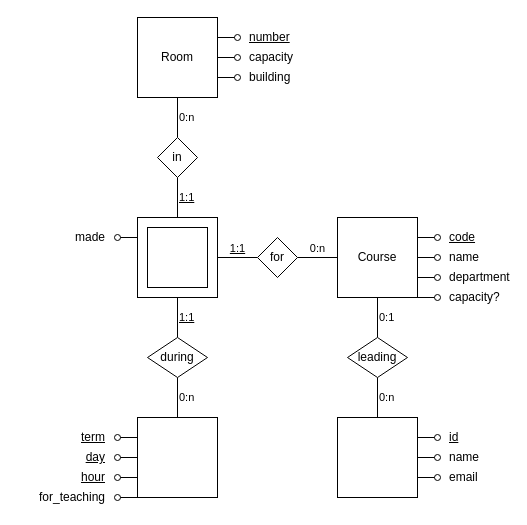
The diagram is 527 pixels wide and 525 high, and some of its shapes have lost their labels. The box of each missing label's shape, as (x1, y1, x2, y2) in pixels:
Booking: (136, 216, 218, 298)
Leader: (336, 416, 418, 498)
Period: (136, 416, 218, 498)
